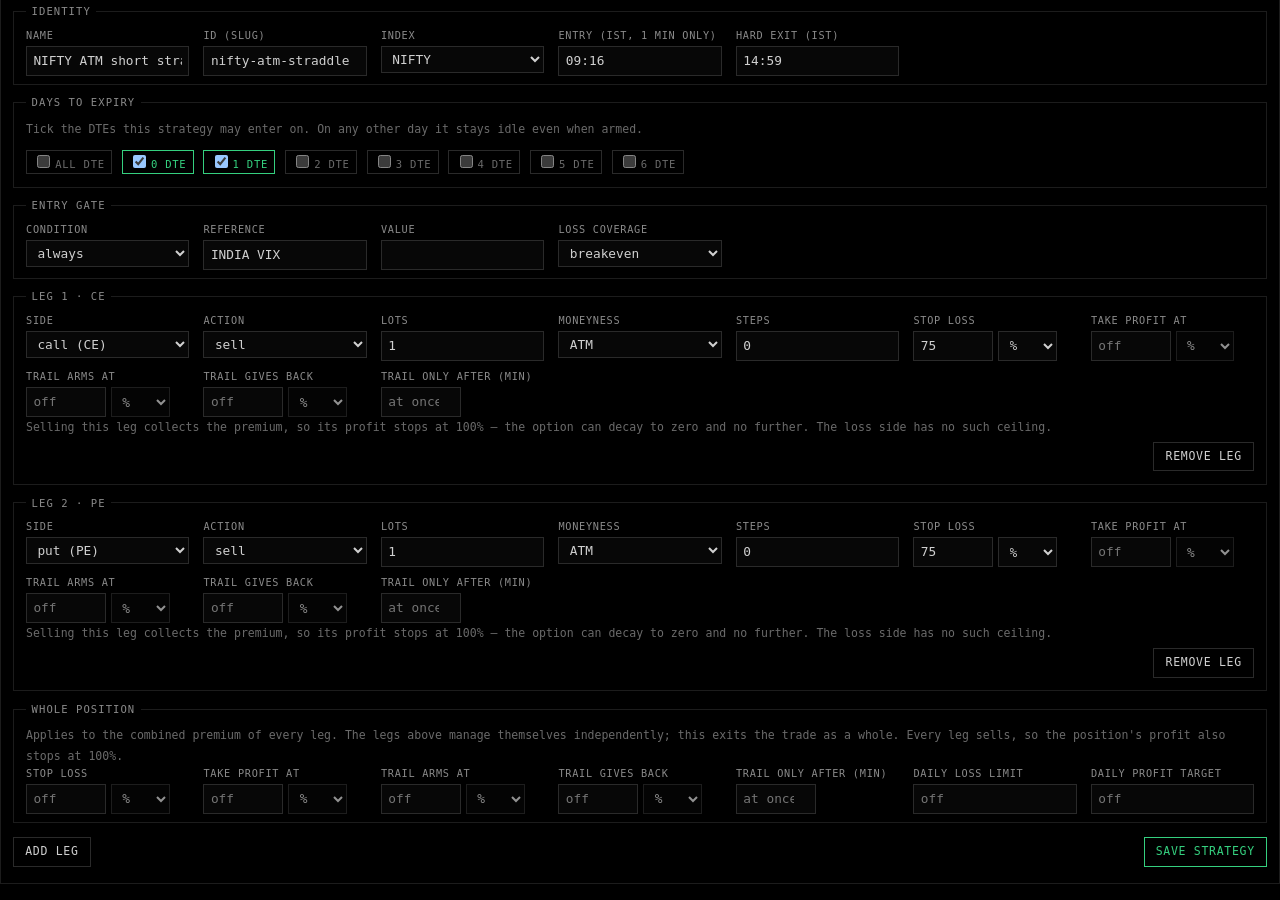
Test: rejection messages › renders a structured engine rejection as a sentence naming leg and field
(page scrolled)
Step 1. Click the button "save strategy" → [1205, 852], box [1144, 837, 1267, 866]
(page scrolled)
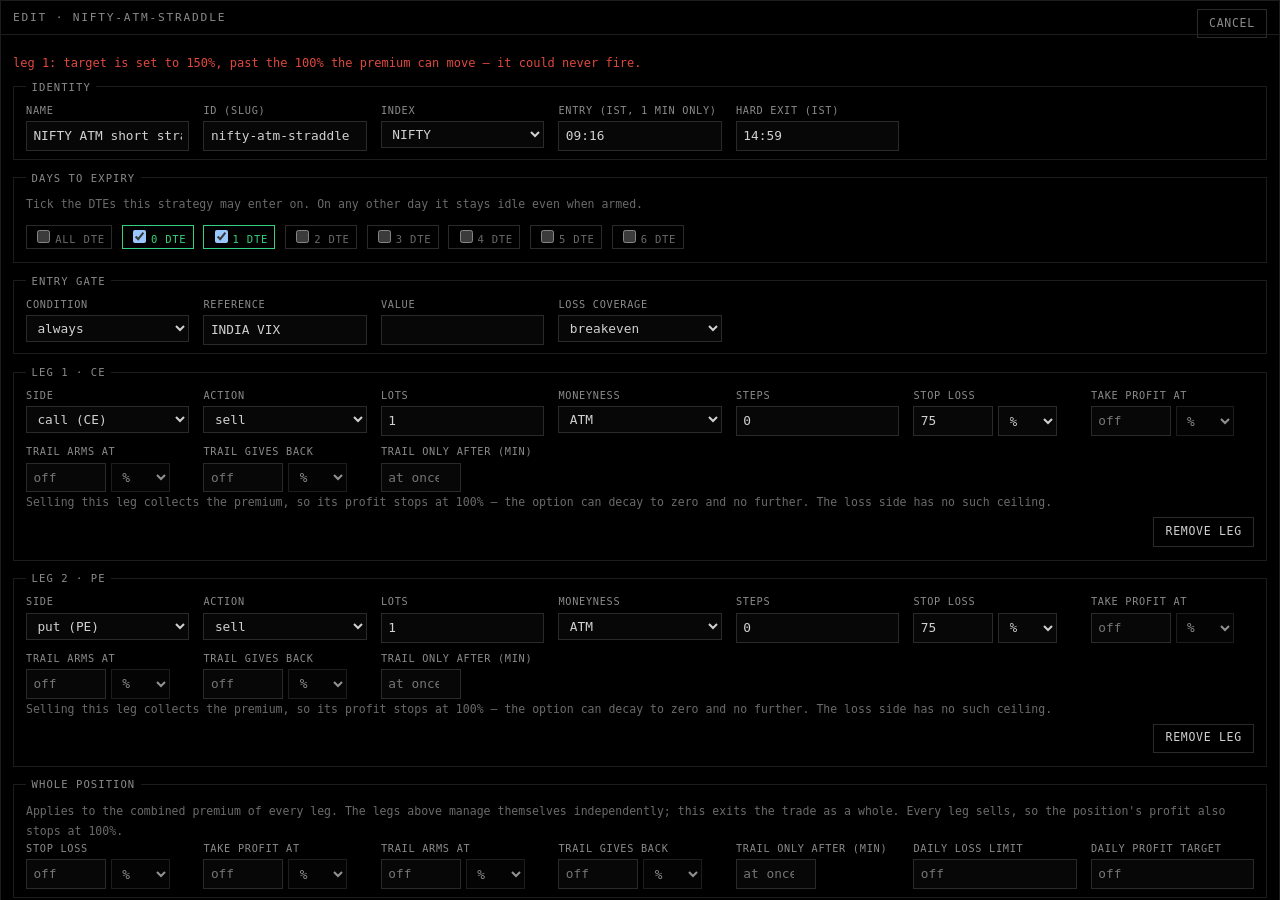
Expected: the text "leg 1: target is set to 150%" shows "past the 100% the premium can move", [13, 56, 642, 70]
